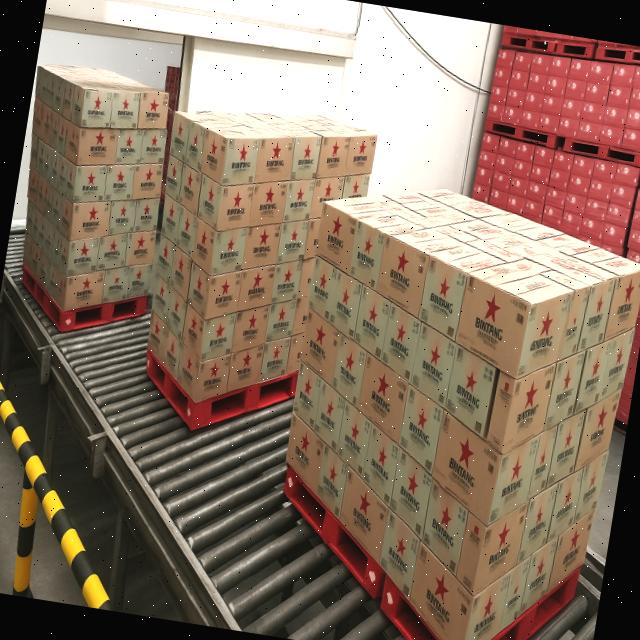pallet: (251, 154, 640, 640), (124, 96, 383, 457), (0, 58, 192, 345)
